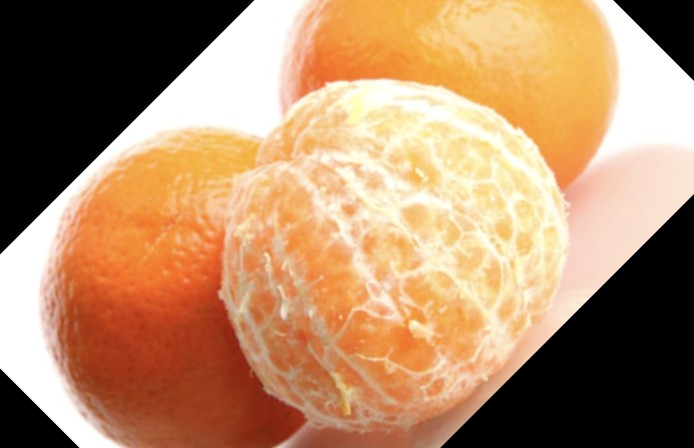fresh_orange: (44, 130, 334, 448), (279, 1, 621, 216)
